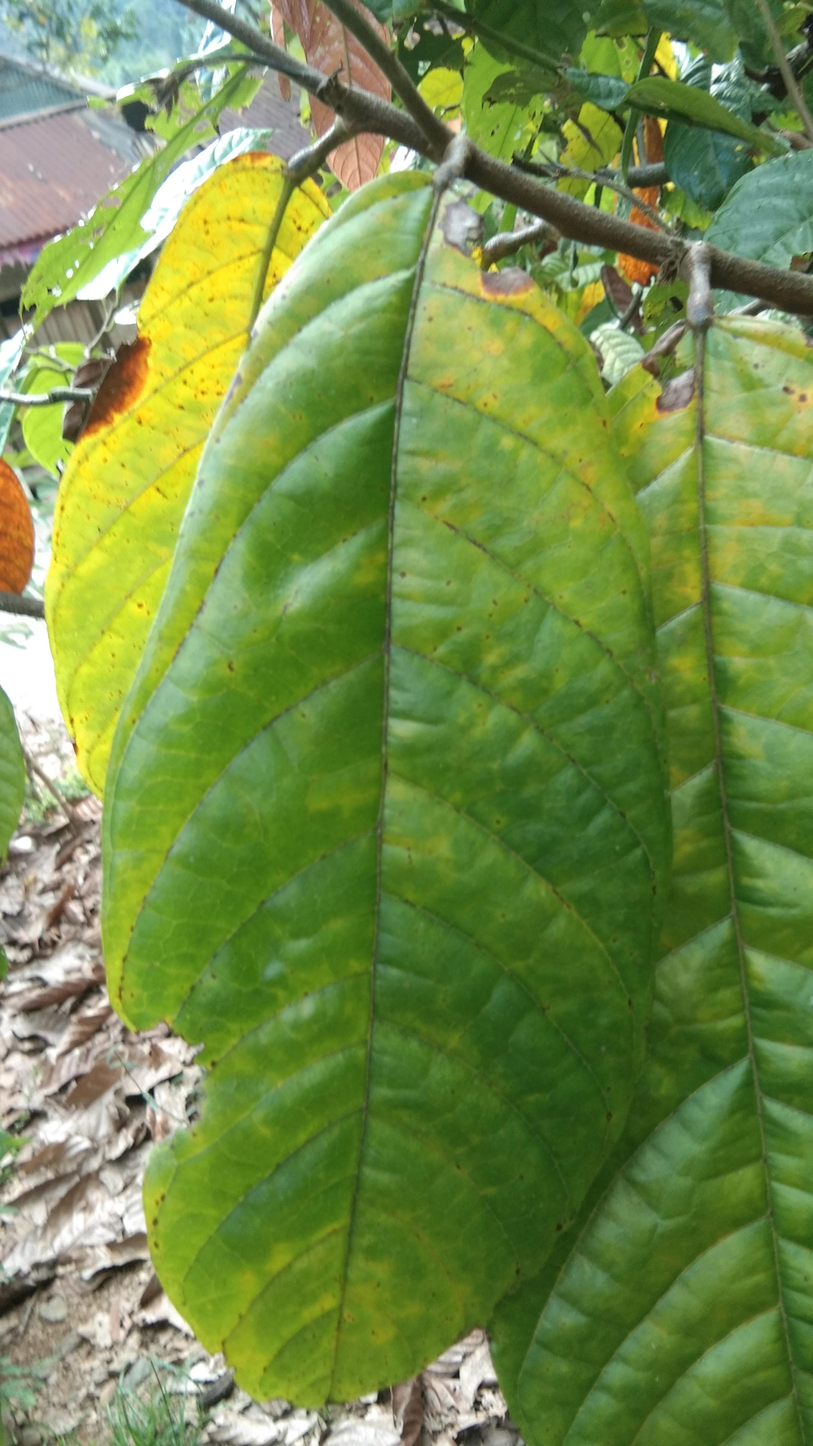deficiencia_potasio: (73, 161, 701, 1439)
